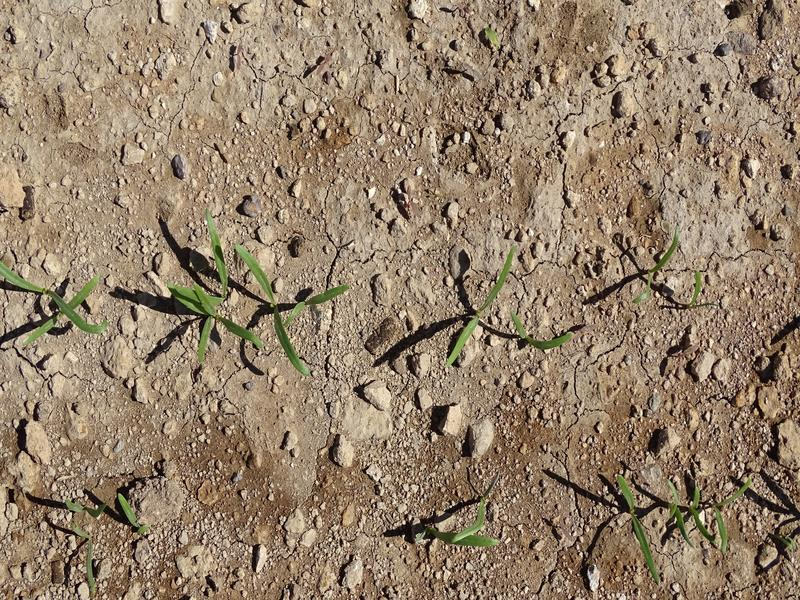Espinaca: (152, 214, 352, 382), (1, 263, 112, 337), (443, 253, 511, 363), (663, 470, 745, 550), (609, 467, 659, 587), (636, 225, 678, 308), (441, 501, 500, 553), (511, 313, 570, 358), (69, 524, 102, 594), (111, 492, 155, 537), (688, 270, 716, 316)
